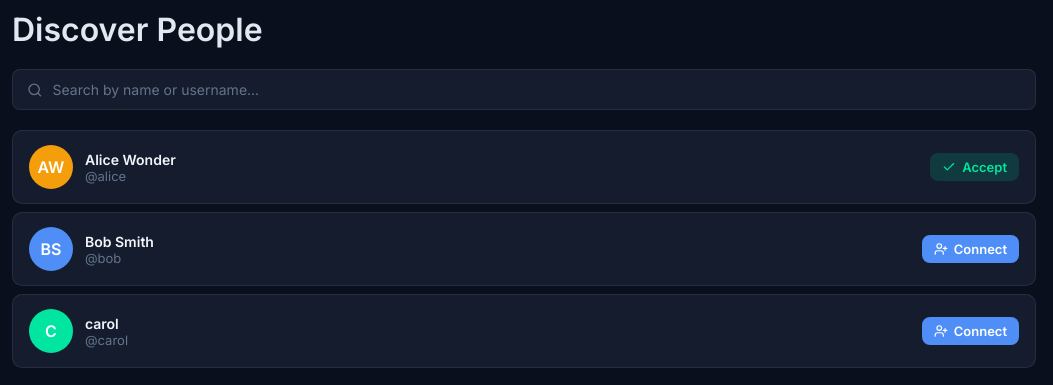
Scenario: Discover page › accepts an incoming request and removes the user from the list
Check: the text "Alice Wonder" is shown, box [85, 151, 176, 168]
Click the button "Accept": (975, 167) [930, 153, 1019, 181]
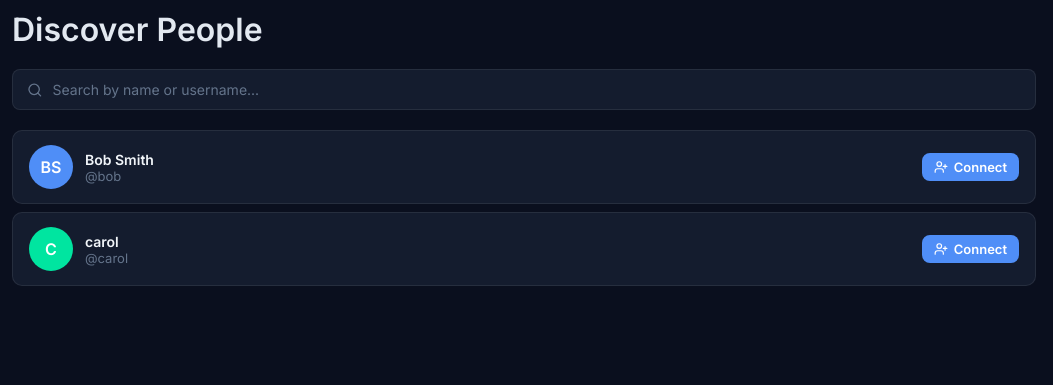
Check: the text "Alice Wonder" is gone
